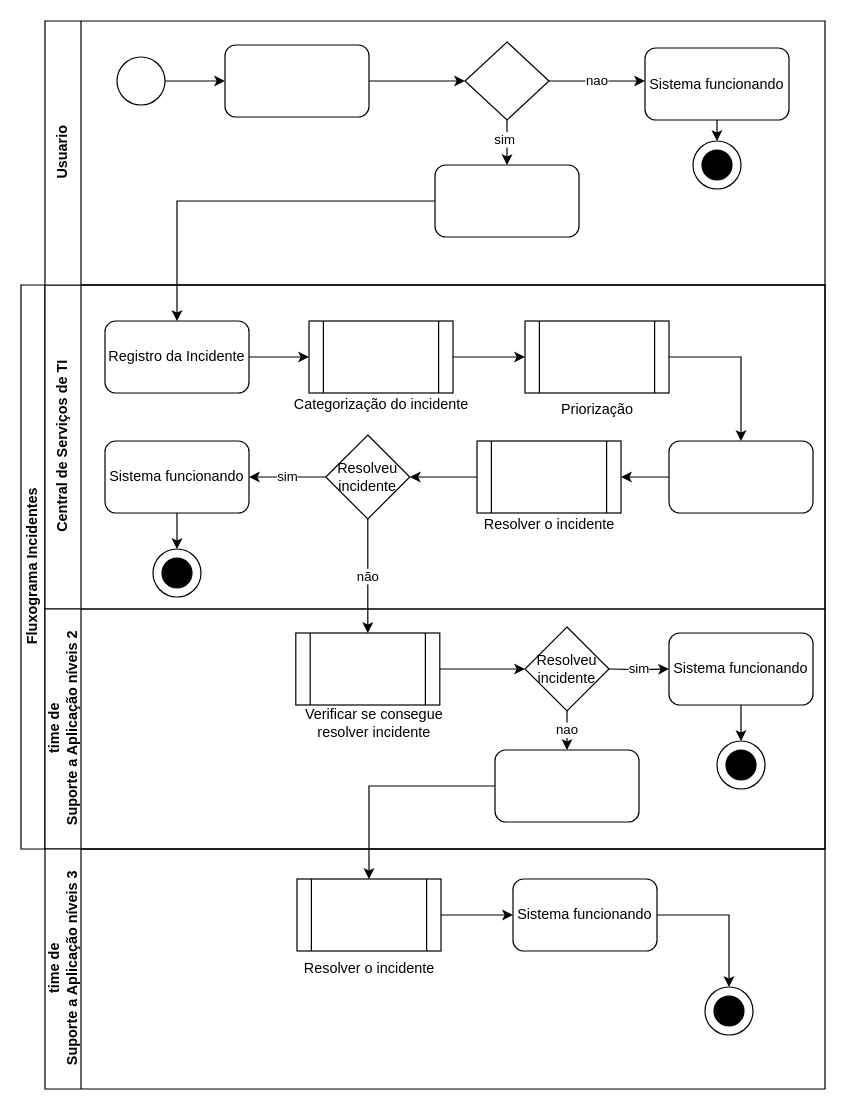
The diagram is 846 pixels wide and 1110 high, and some of its shapes have lost their labels. Here are the shapes that lost their labels. From the top down, the centre of each, then its label:
At (x=296, y=80): "Verificar se o sistema esta funcionando corretemente".
At (x=506, y=80): "Ocorreu incidente".
At (x=506, y=200): "Informar suporte tecnico".
At (x=740, y=476): "Resolução incidente".
At (x=566, y=785): "Enviar para time suporte nível 3".
